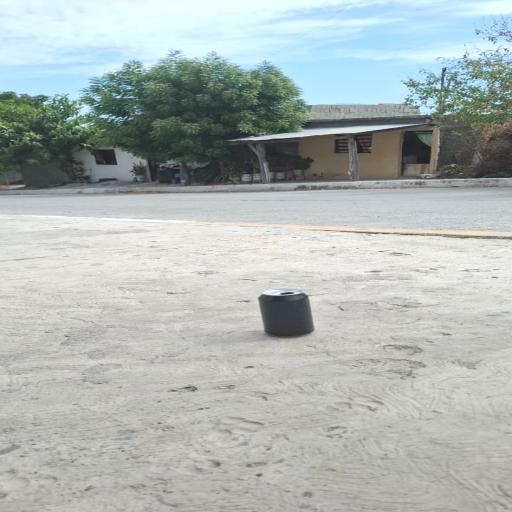LATA: (242, 289, 360, 345)
